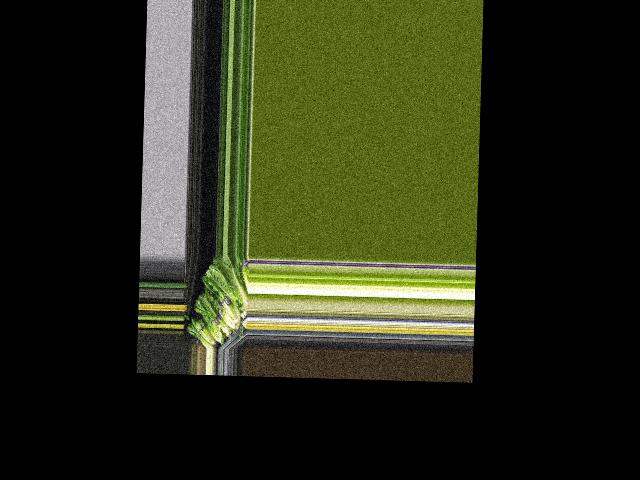lettuce: (207, 255, 246, 310)
